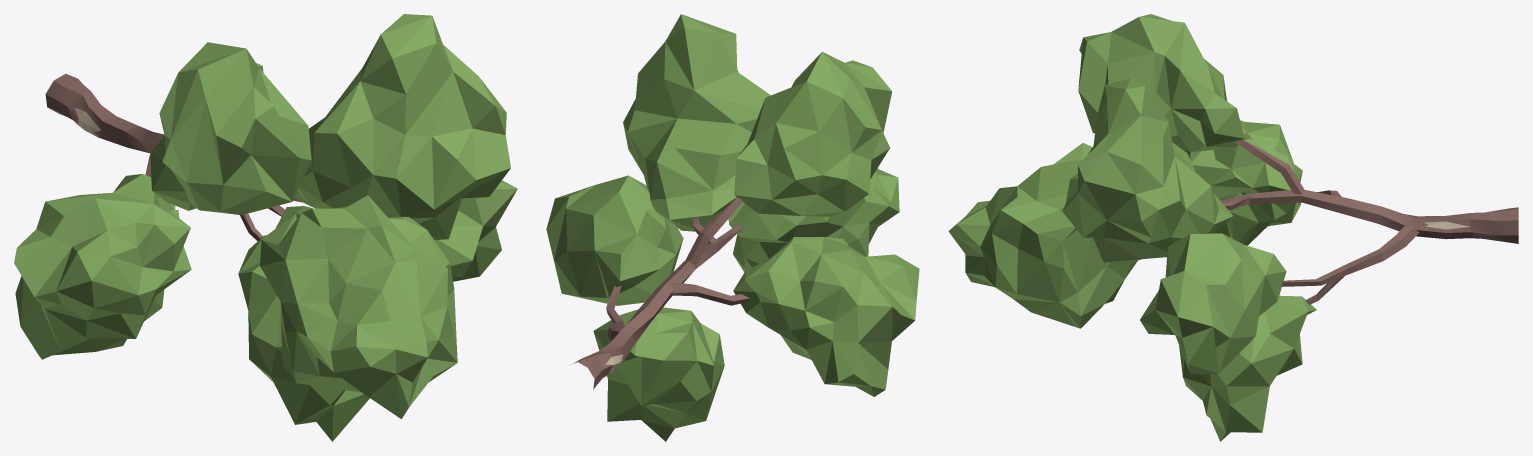
Rendered from tree1.gltf.
3 renders of one model, left to right at view 1: azimuth 30°, elevation 25°; view 2: azimuth 150°, elevation 25°; view 3: azimuth 270°, elevation 25°, orthographic. The views are drawn at different scales.
Parts seen in each view (by area): view 1: Tree_1_1_LOD0; view 2: Tree_1_1_LOD0; view 3: Tree_1_1_LOD0.
Boxes of the visible parts, x1,y1,x2,y2 form: Tree_1_1_LOD0: (14,14,517,441); Tree_1_1_LOD0: (546,14,919,441); Tree_1_1_LOD0: (948,14,1518,441).
Bounding box in the file's own units: 6.95 × 6.7 × 9.32.
